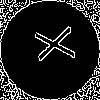X: (25, 25, 75, 65)
